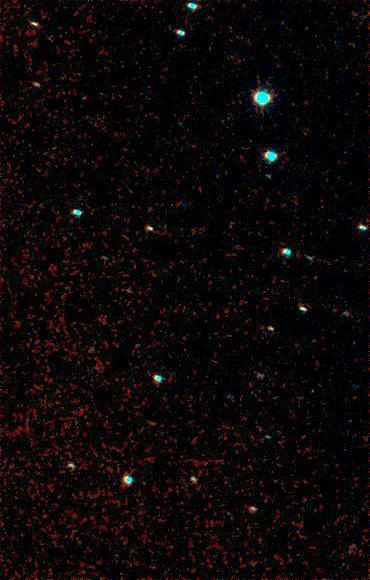star: (137, 410, 167, 440)
